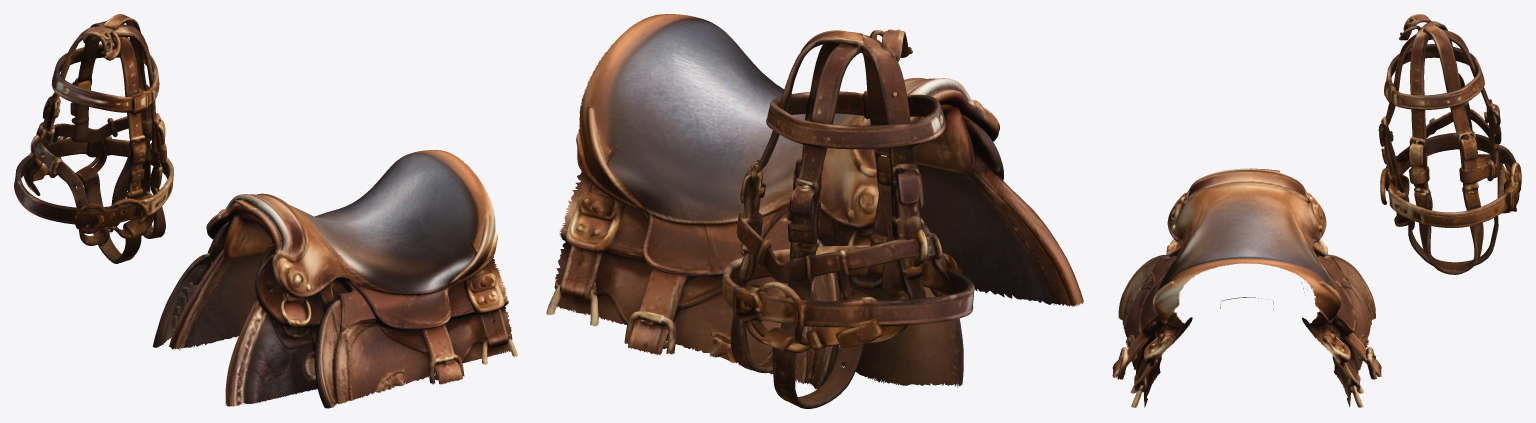
File: saddle.glb
The picture shows the model from 3 angles, left to right: view 1: azimuth 30°, elevation 25°; view 2: azimuth 150°, elevation 25°; view 3: azimuth 270°, elevation 25°; orthographic projection. The views are drawn at different scales.
Parts seen in each view (by area): view 1: saddle; view 2: saddle; view 3: saddle.
Boxes of the visible parts, <box> form: saddle: <box>14,14,517,408</box>; saddle: <box>546,14,1083,408</box>; saddle: <box>1112,14,1521,407</box>.
Size of the model in its own units: 0.545 by 0.437 by 0.6021.
Materials: 1 (1 with a texture image).
